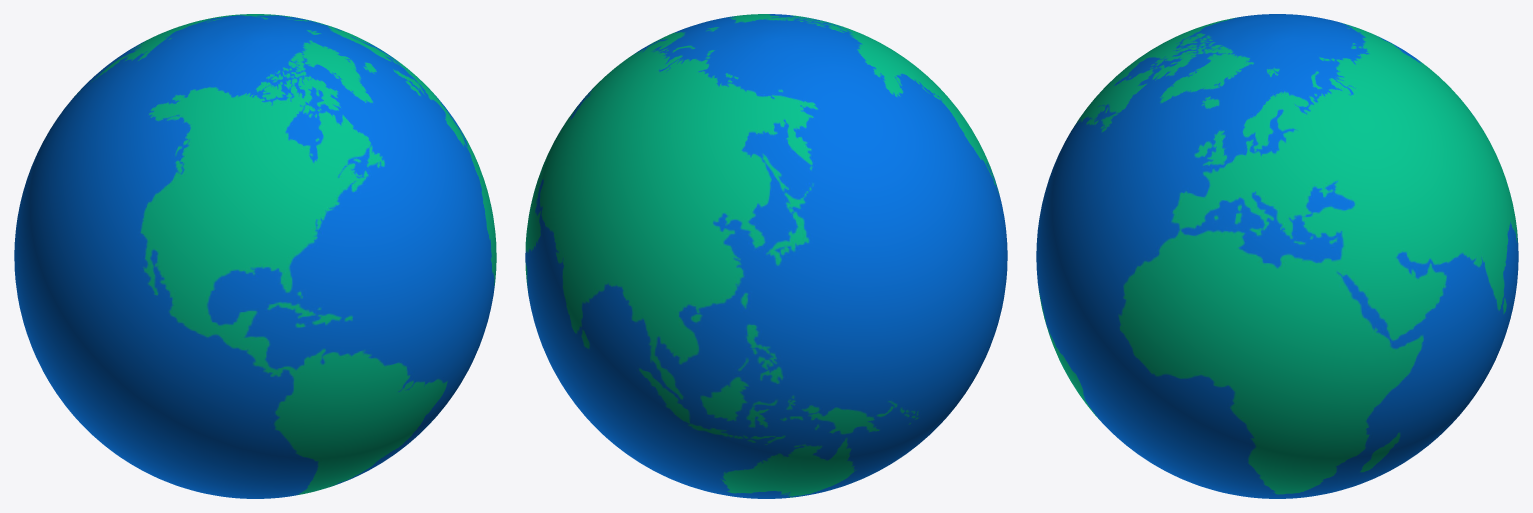
File: earth.glb
The picture shows the model from 3 angles, left to right: view 1: azimuth 30°, elevation 25°; view 2: azimuth 150°, elevation 25°; view 3: azimuth 270°, elevation 25°; orthographic projection.
Visible parts, largest first — view 1: earth; view 2: earth; view 3: earth.
Boxes of the visible parts, box(x1,y1,x2,y2) form: earth: box(14, 14, 496, 498); earth: box(525, 14, 1007, 498); earth: box(1036, 14, 1518, 498).
Bounding box in the file's own units: 0.9852 × 0.9965 × 0.9852.
1 material, 1 textured.
